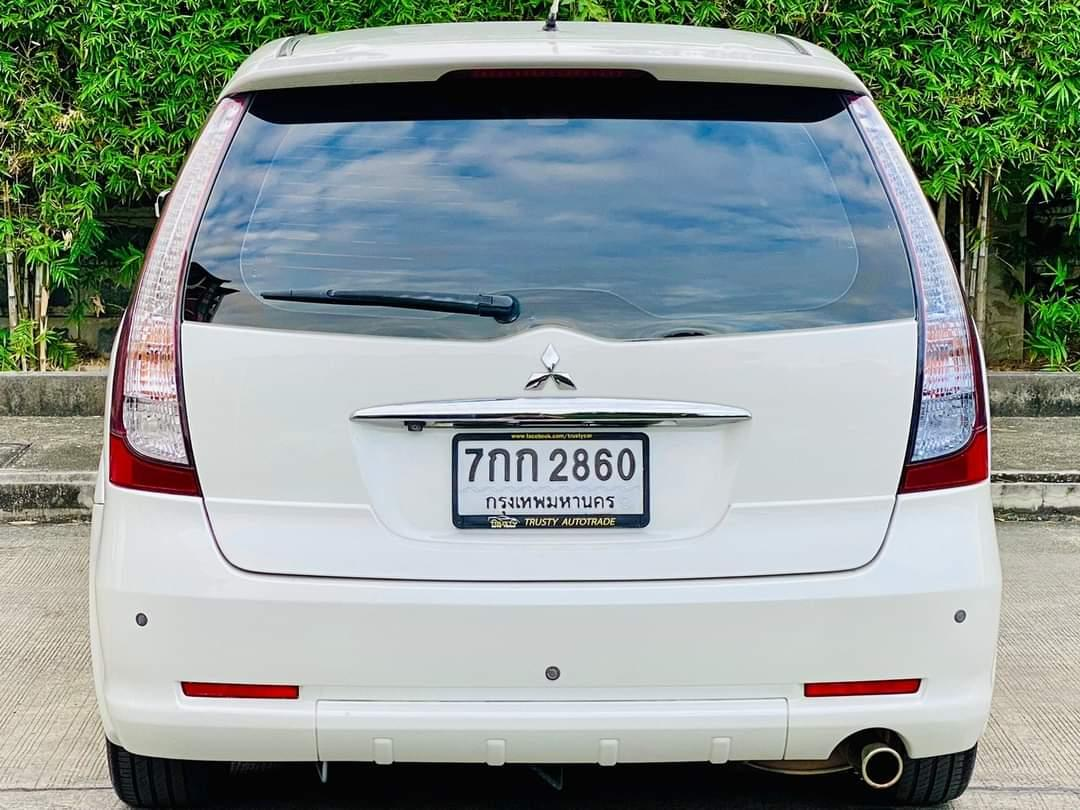license-plate: (455, 429, 650, 530)
